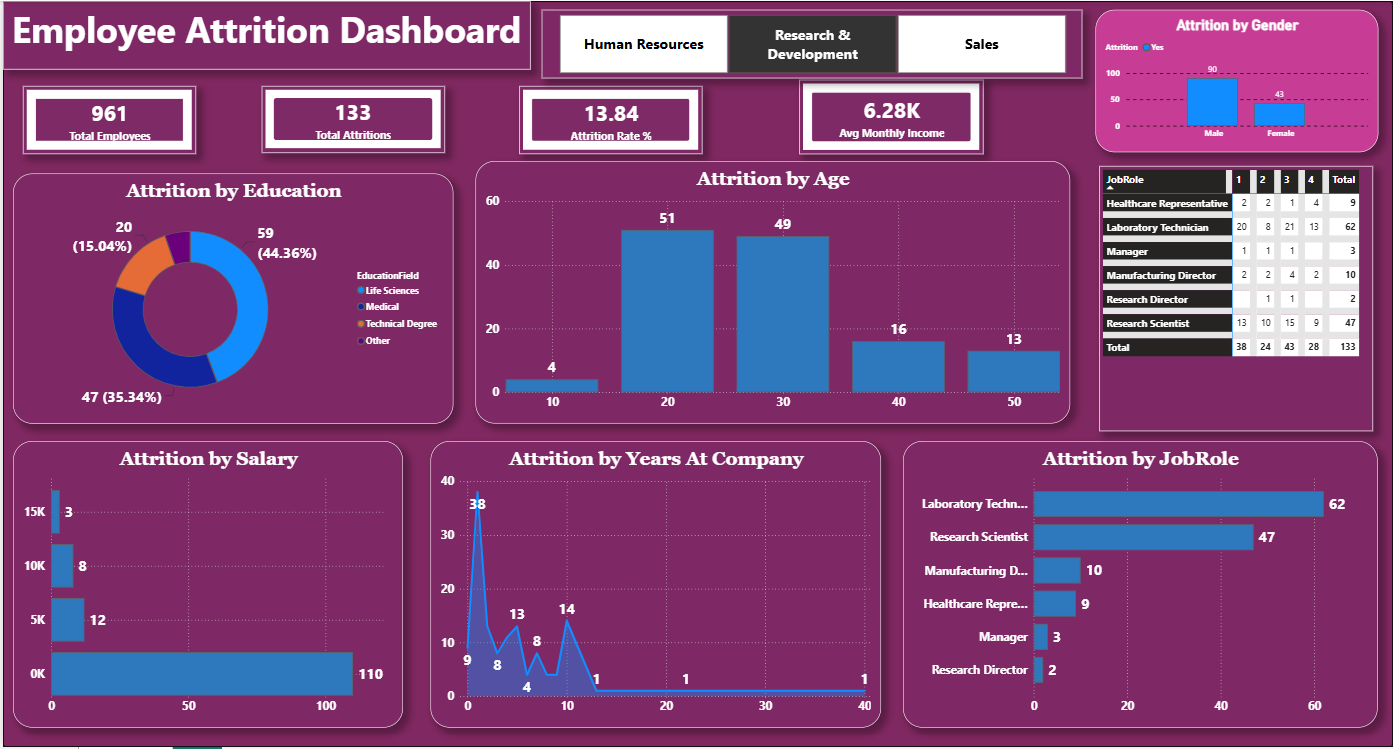

The dashboard page shown, as its layout file describes it:
{"tool":"powerbi","page":{"name":"Page 1","canvas":[2075,1114],"ordinal":0},"visuals":[{"type":"cardVisual","fields":{"Data":["HR_Attrition_Cleaned.Total Employees"]},"box":[30.2,126.3,258.2,101.8],"z":0},{"type":"cardVisual","fields":{"Data":["HR_Attrition_Cleaned.Total Attritions"]},"box":[386.4,126.3,273.3,99.9],"z":1000},{"type":"cardVisual","fields":{"Data":["HR_Attrition_Cleaned.Attrition Rate %"]},"box":[771,126.3,273.3,101.8],"z":2000},{"type":"cardVisual","fields":{"Data":["HR_Attrition_Cleaned.Avg Monthly Income"]},"box":[1189.4,116.9,275.2,111.2],"z":3000},{"type":"clusteredColumnChart","title":"Attrition by Age ","fields":{"Y":["CountNonNull(HR_Attrition_Cleaned.Attrition)"],"Category":["HR_Attrition_Cleaned.Age (bins)"]},"box":[705,239.4,887.8,392.1],"z":4000},{"type":"donutChart","title":" Attrition by Education","fields":{"Category":["HR_Attrition_Cleaned.EducationField"],"Y":["CountNonNull(HR_Attrition_Cleaned.Attrition)"]},"box":[15.1,258.2,657.9,373.2],"z":5000},{"type":"clusteredBarChart","title":" Attrition by Salary","fields":{"Category":["HR_Attrition_Cleaned.MonthlyIncome (bins)"],"Y":["CountNonNull(HR_Attrition_Cleaned.Attrition)"]},"box":[15.1,657.9,582.5,427.9],"z":6000},{"type":"areaChart","title":" Attrition by Years At Company","fields":{"Category":["HR_Attrition_Cleaned.YearsAtCompany"],"Y":["CountNonNull(HR_Attrition_Cleaned.Attrition)"]},"box":[639,657.9,672.9,427.9],"z":7000},{"type":"clusteredBarChart","title":" Attrition by JobRole","fields":{"Category":["HR_Attrition_Cleaned.JobRole"],"Y":["CountNonNull(HR_Attrition_Cleaned.Attrition)"]},"box":[1344,657.9,708.8,427.9],"z":8000},{"type":"pivotTable","fields":{"Rows":["HR_Attrition_Cleaned.JobRole"],"Columns":["HR_Attrition_Cleaned.JobSatisfaction"],"Values":["CountNonNull(HR_Attrition_Cleaned.Attrition)"]},"box":[1636.2,246.9,409,395.8],"z":9000},{"type":"columnChart","title":" Attrition by Gender","fields":{"Category":["HR_Attrition_Cleaned.Gender"],"Series":["HR_Attrition_Cleaned.Attrition"],"Y":["CountNonNull(HR_Attrition_Cleaned.Attrition)"]},"box":[1630.5,13.2,422.2,213],"z":10000},{"type":"slicer","fields":{"Values":["HR_Attrition_Cleaned.Department"]},"box":[804,12.6,807.2,102.3],"z":11000},{"type":"textbox","box":[0,0,787.7,102.7],"z":12000}]}

Visuals, with their boxes in screenshot pixels (x1, y1, x2, y2), scaled from the page's 2075x1114 canvas onto the 1393x749 screenshot:
cardVisual - HR_Attrition_Cleaned.Total Employees: Rect(20, 85, 194, 153)
cardVisual - HR_Attrition_Cleaned.Total Attritions: Rect(259, 85, 443, 152)
cardVisual - HR_Attrition_Cleaned.Attrition Rate %: Rect(518, 85, 701, 153)
cardVisual - HR_Attrition_Cleaned.Avg Monthly Income: Rect(798, 79, 983, 153)
"Attrition by Age " clusteredColumnChart: Rect(473, 161, 1069, 425)
" Attrition by Education" donutChart: Rect(10, 174, 452, 425)
" Attrition by Salary" clusteredBarChart: Rect(10, 442, 401, 730)
" Attrition by Years At Company" areaChart: Rect(429, 442, 881, 730)
" Attrition by JobRole" clusteredBarChart: Rect(902, 442, 1378, 730)
pivotTable - HR_Attrition_Cleaned.JobRole x HR_Attrition_Cleaned.JobSatisfaction: Rect(1098, 166, 1373, 432)
" Attrition by Gender" columnChart: Rect(1095, 9, 1378, 152)
slicer - HR_Attrition_Cleaned.Department: Rect(540, 8, 1082, 77)
textbox: Rect(0, 0, 529, 69)
